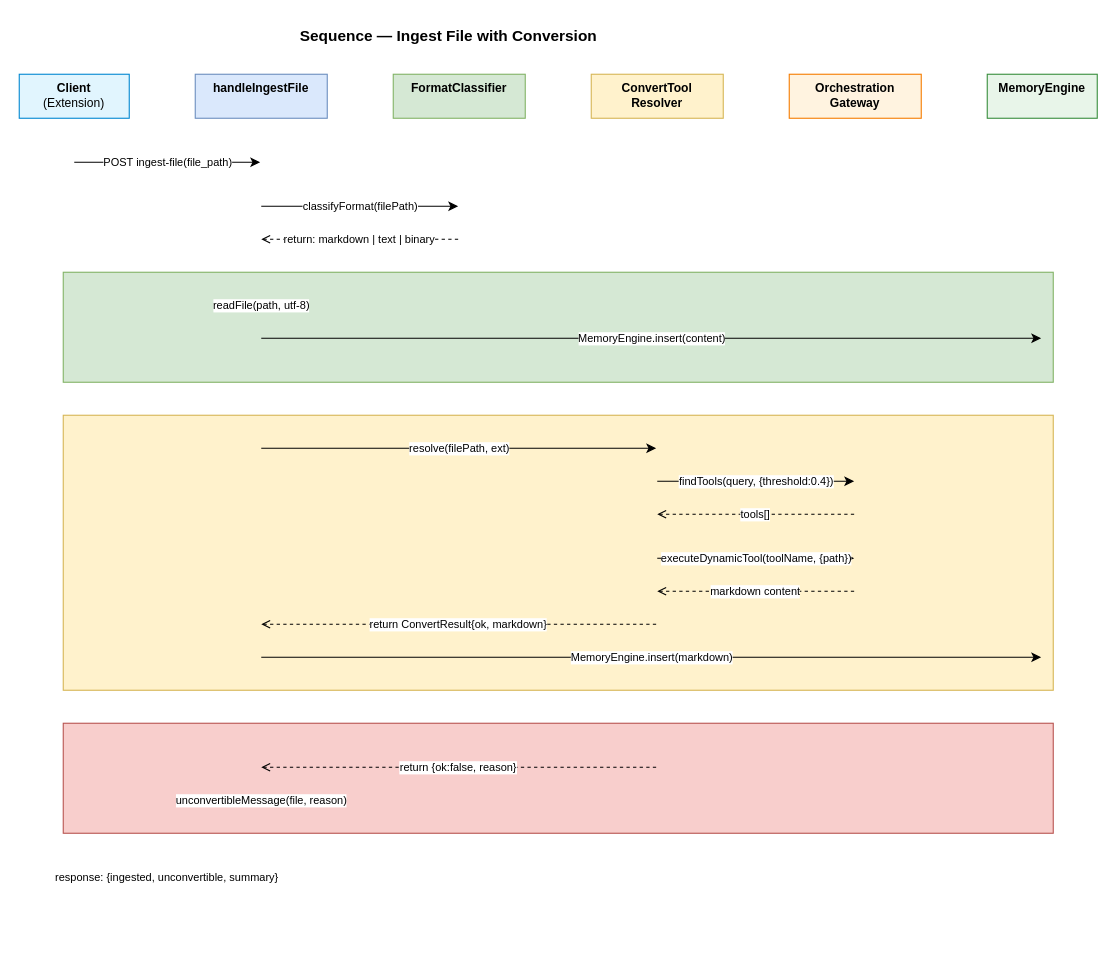
Some shapes in this 1117 by 964 pixel diagram are drawn without their labels. The shapes that lost their labels are listed below. From the top down, each one's centre as x and y in pixels, then its label:
At (x=557, y=326): "[md/text] Direct Ingest".
At (x=557, y=552): "[binary] Convert via Dynamic Tool".
At (x=557, y=777): "[no-tool / convert-failed] Unconvertible".
